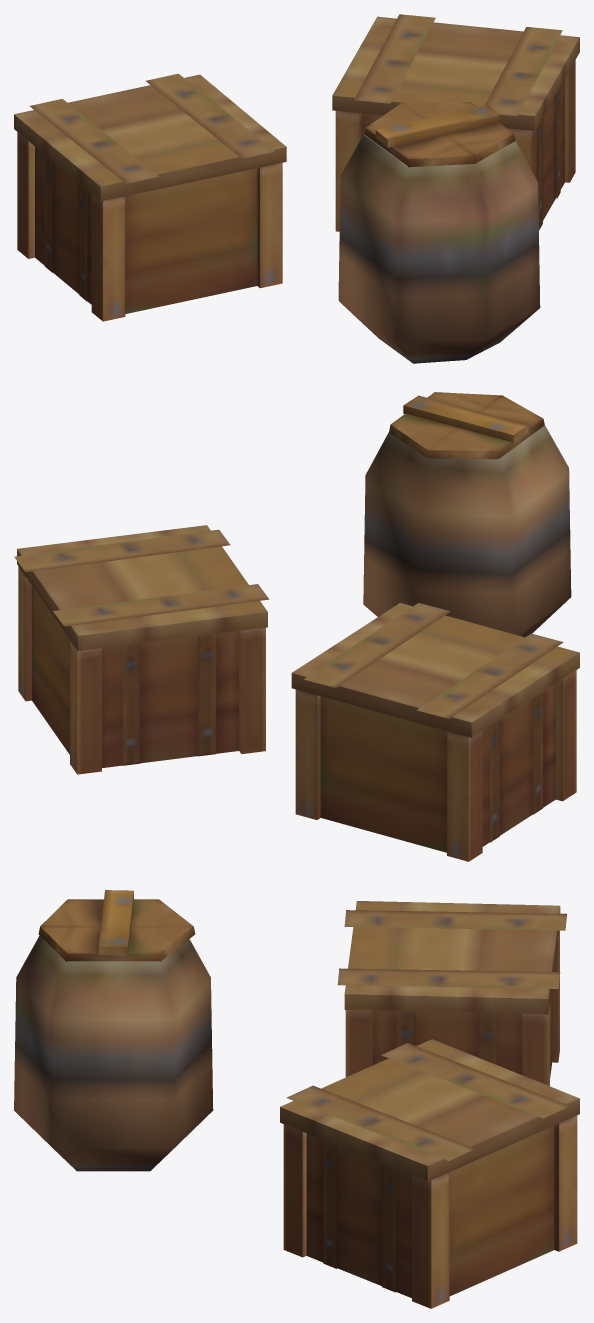
File: area_12_16.fbx
3 renders of one model, top to bottom at view 1: azimuth 30°, elevation 25°; view 2: azimuth 150°, elevation 25°; view 3: azimuth 270°, elevation 25°, orthographic. The views are drawn at different scales.
Parts seen in each view (by area): view 1: area_12_16; view 2: area_12_16; view 3: area_12_16.
Boxes of the visible parts, bbox=[...] form: area_12_16: bbox=[14, 14, 579, 363]; area_12_16: bbox=[14, 392, 579, 861]; area_12_16: bbox=[14, 890, 579, 1308].
Size of the model in its own units: 2.78 by 1.18 by 2.5.
